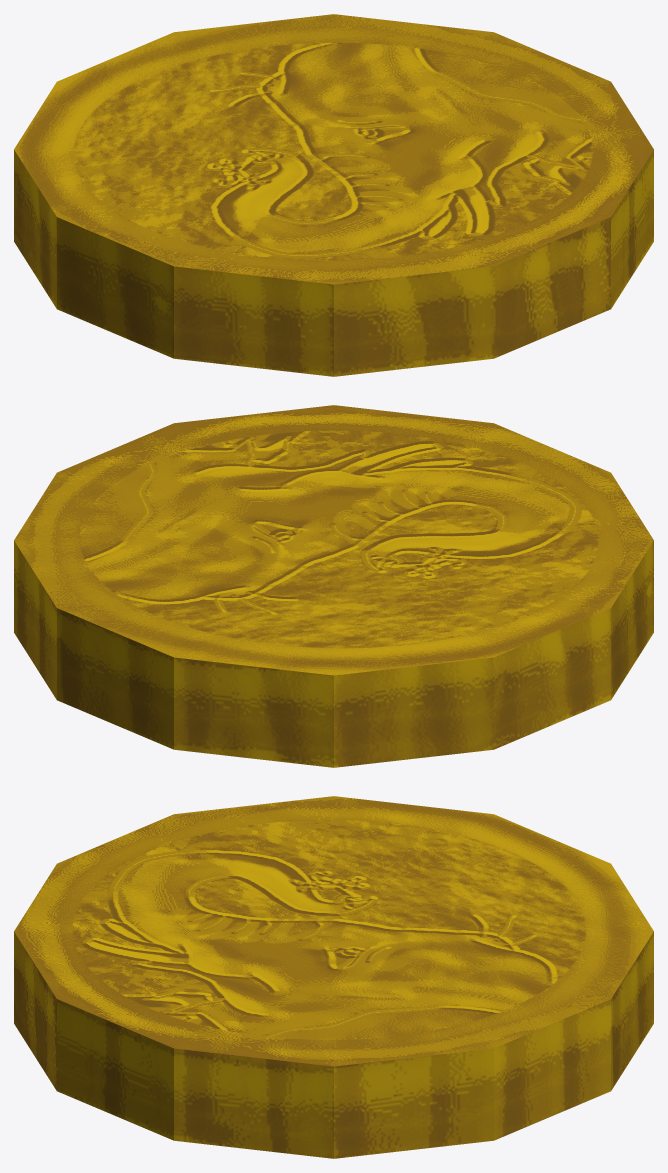
File: coin.fbx
3 renders of one model, top to bottom at view 1: azimuth 30°, elevation 25°; view 2: azimuth 150°, elevation 25°; view 3: azimuth 270°, elevation 25°, orthographic.
Parts seen in each view (by area): view 1: pCylinder1; view 2: pCylinder1; view 3: pCylinder1.
Boxes of the visible parts, left/top/right/bottom form: pCylinder1: left=14, top=14, right=653, bottom=376; pCylinder1: left=14, top=405, right=653, bottom=767; pCylinder1: left=14, top=796, right=653, bottom=1158.
Bounding box in the file's own units: 2 × 0.3181 × 2.
